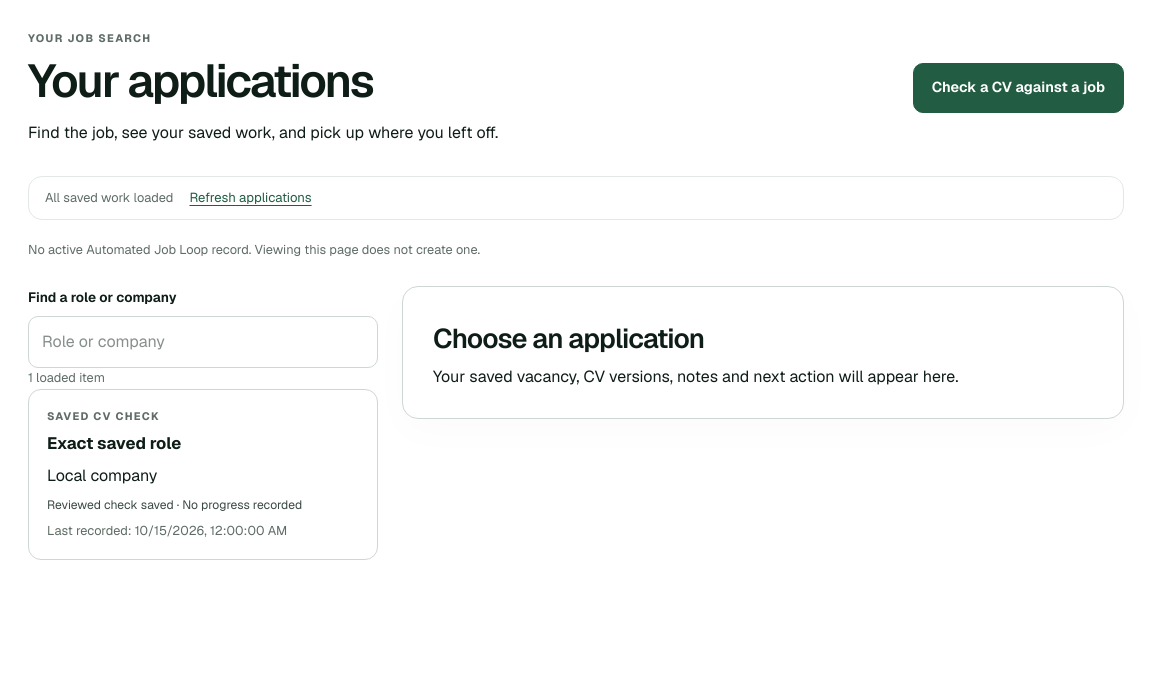
independent shared Applications home boundaries › removes selected private details and its continuation when an authoritative refresh removes that item
Click the button that starts with "Saved CV check" at (104, 416), box [28,389,378,560]
(page scrolled)
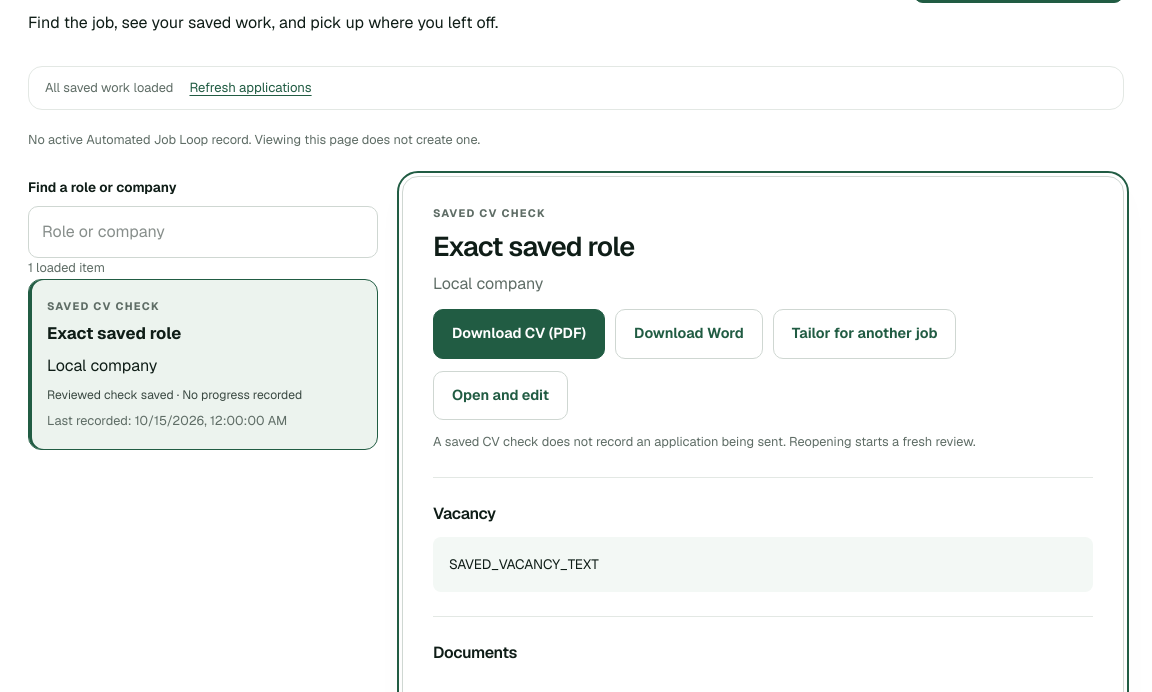
Click the button "Refresh applications" at (251, 88), box [190,77,312,99]
(page scrolled)
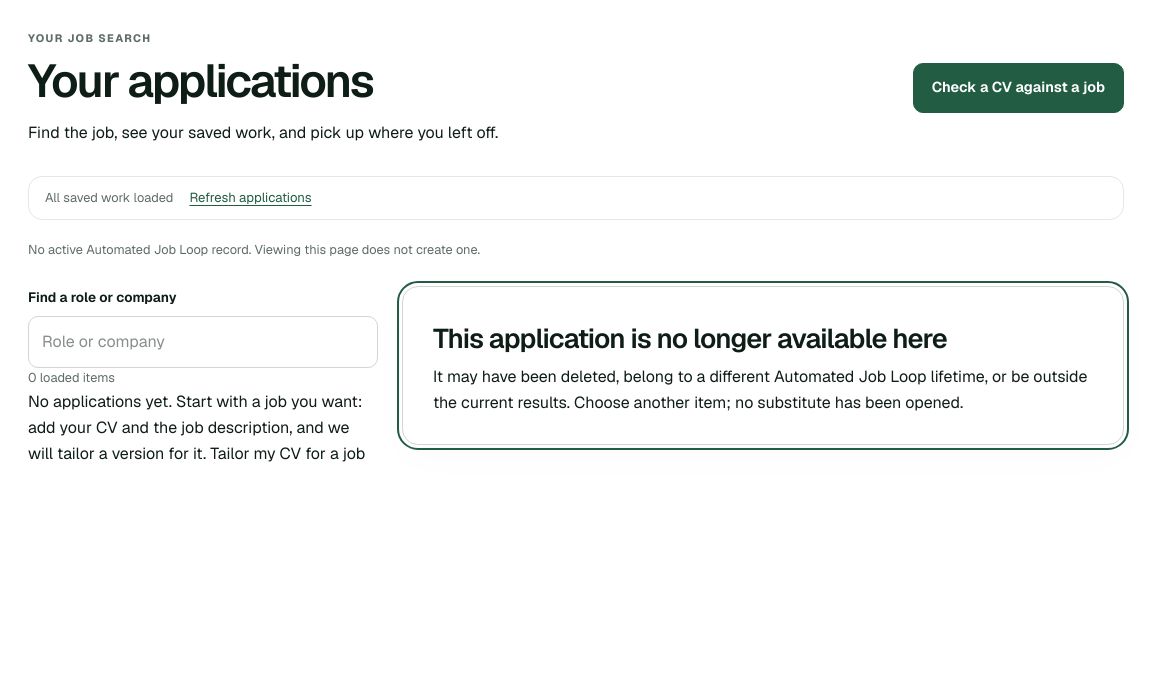
Expected: the heading "This application is no longer available here" is shown, [433,321,947,356]
Expected: the link "Open and edit" is gone
Expected: the text "SAVED_VACANCY_TEXT" is gone
